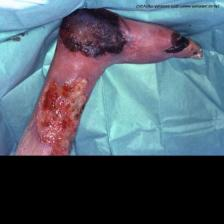Wound: (37, 75, 91, 157), (59, 6, 128, 60), (166, 27, 194, 57)
